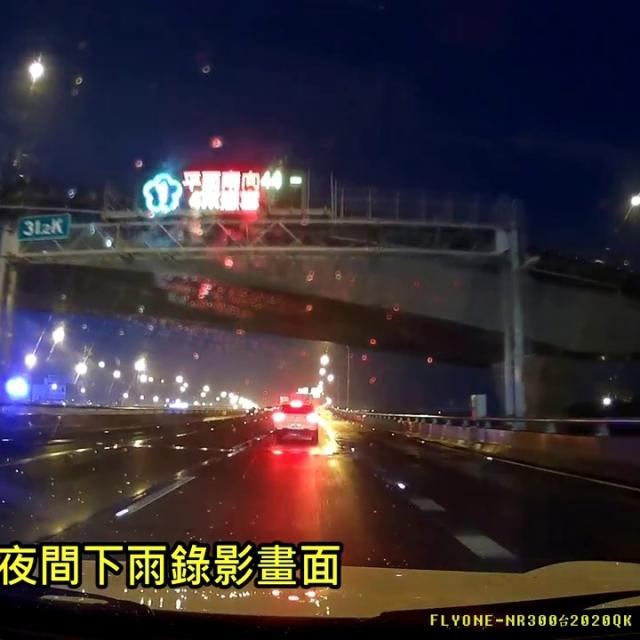Car: (269, 397, 317, 442)
